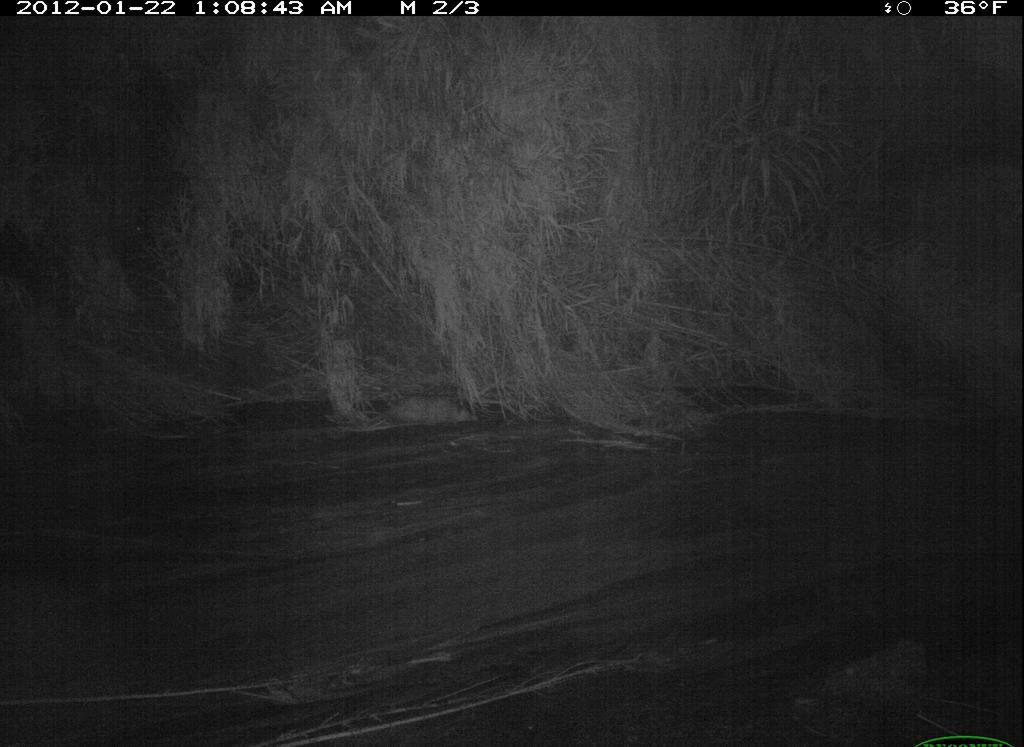opossum: (356, 388, 484, 440)
